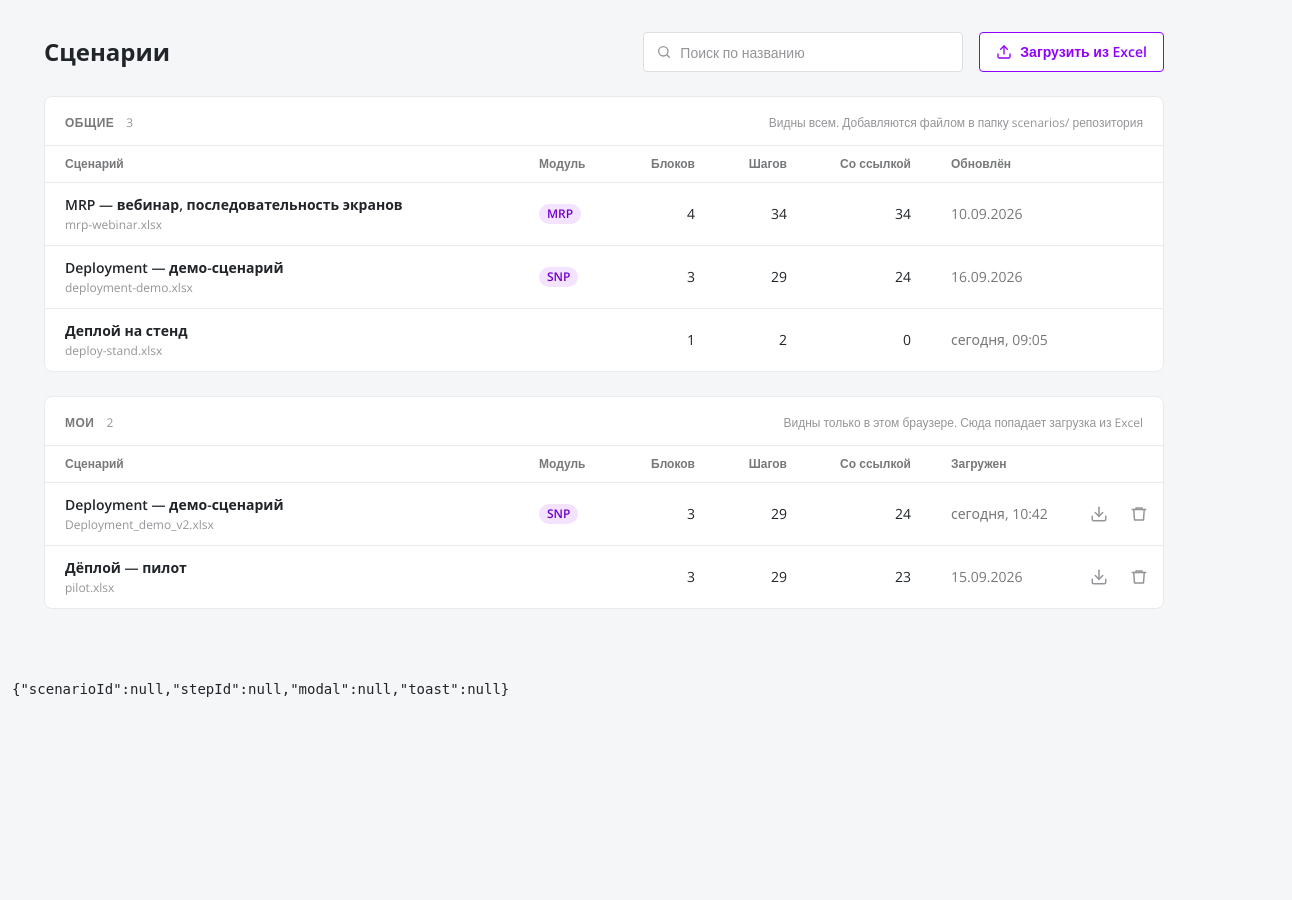
Test: Catalog: SPEC §4.2:247-257, ТК 26 — SPEC §8:422 › поиск "zzz": оба раздела «Ничего не найдено», числа 0, таблиц нет
The width and height of the screenshot is (1292, 900).
Step 1. Type "zzz" into the search field labelled "Поиск по названию" → [815, 52], box [680, 33, 950, 71]
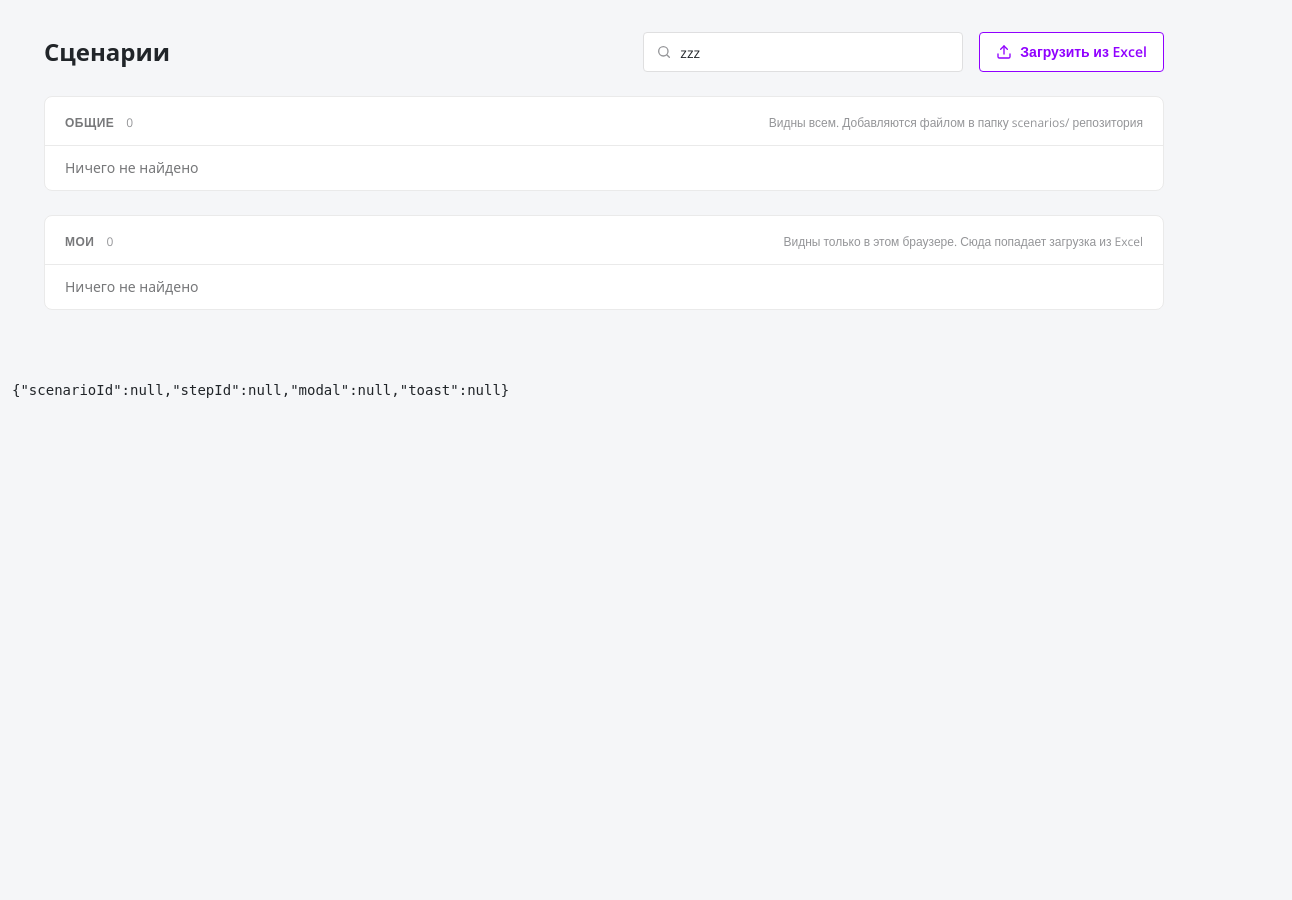
expect the table is gone: met
